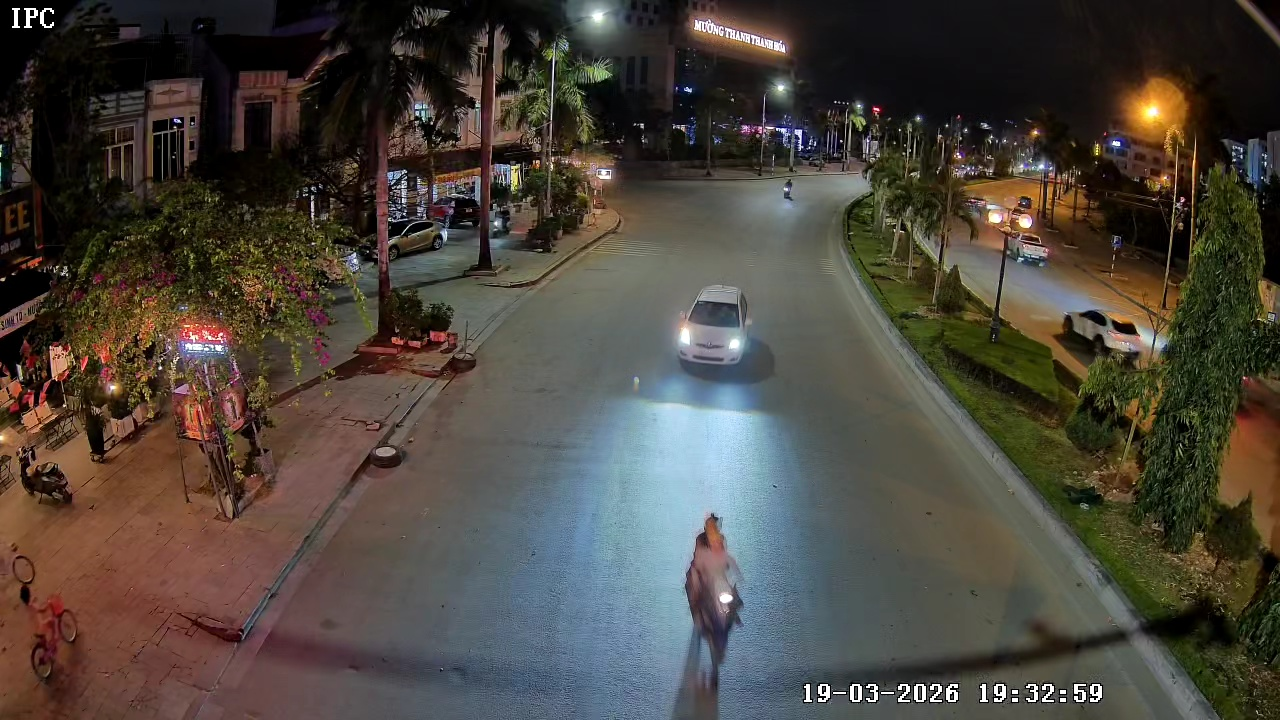car: (675, 283, 776, 377)
motorbike: (669, 508, 753, 719)
